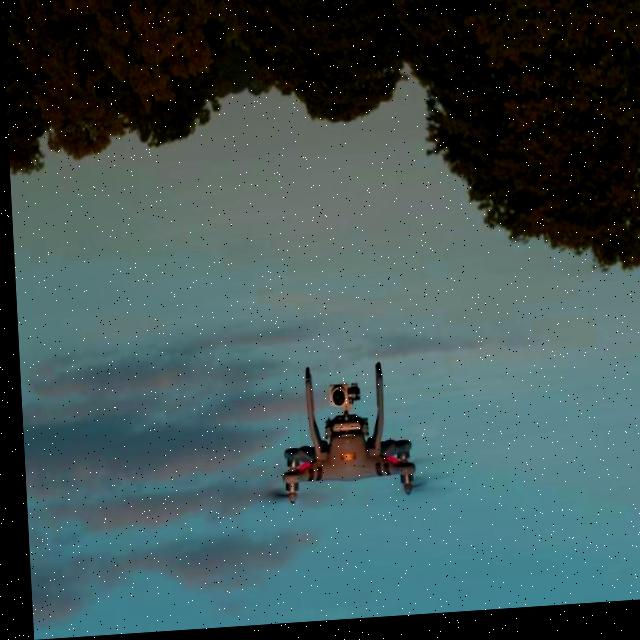drone: (265, 364, 424, 511)
